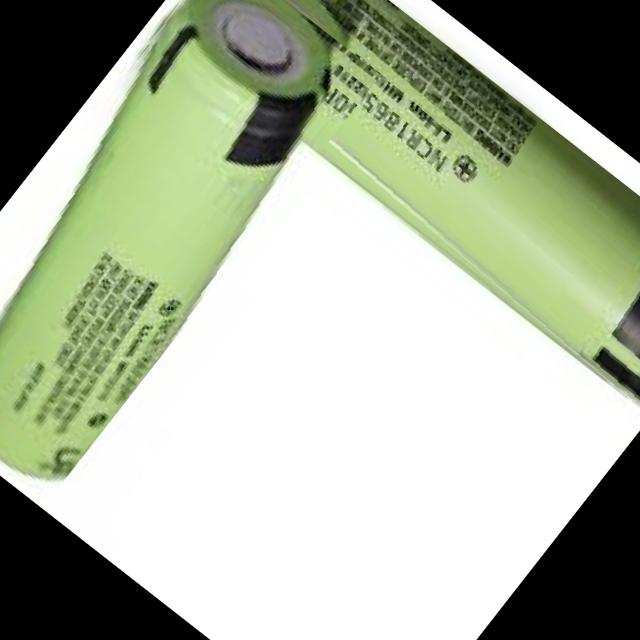Hazard: (163, 0, 640, 413), (0, 0, 379, 502)
